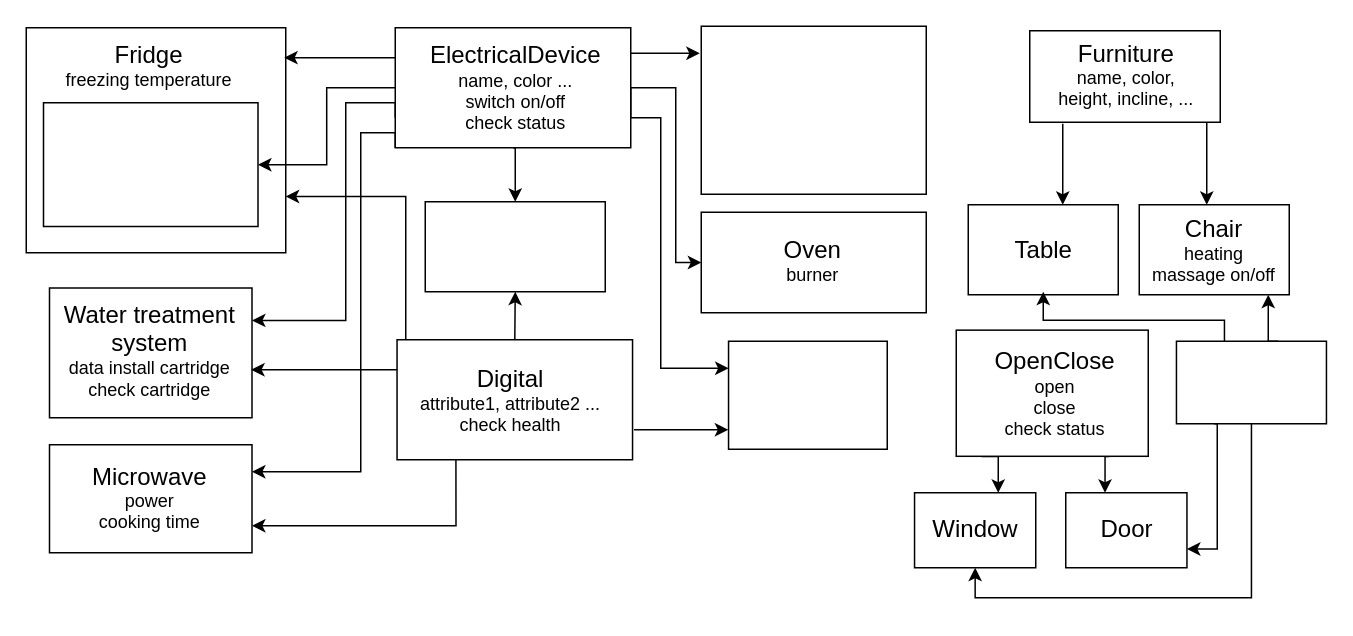
The diagram is 1353 pixels wide and 636 high, and some of its shapes have lost their labels. Each missing label, with the centre of its shape:
"Battery power electric" goes at point (1250, 382).
"Burner temperature" goes at point (514, 246).
"Freezer freezing temperature" goes at point (150, 163).
"Kitchen stove burner1 burner2 burner3 burner4" goes at point (813, 109).
"Toaster temperature if on -> Bing! if off -> Bye!" goes at point (807, 394).
